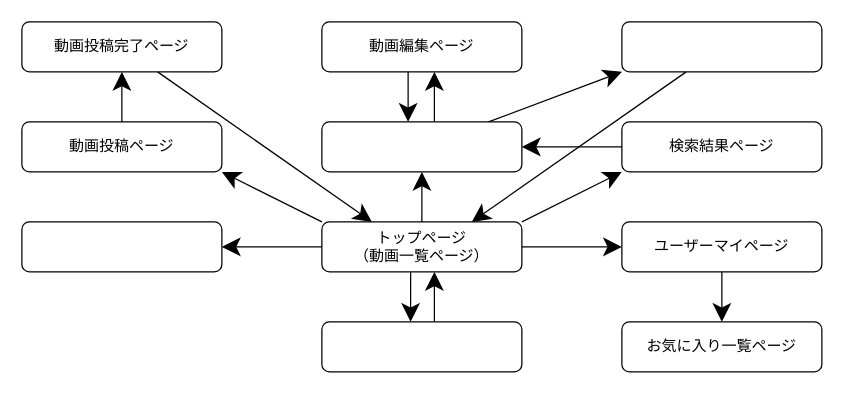
The diagram is 844 pixels wide and 394 high, and some of its shapes have lost their labels. Each missing label, with the box of its shape:
サインインページ: (21, 221, 222, 272)
ユーザー新規登録ページ: (321, 321, 522, 372)
動画削除完了ページ: (621, 21, 822, 72)
動画詳細ページ: (321, 121, 522, 172)
